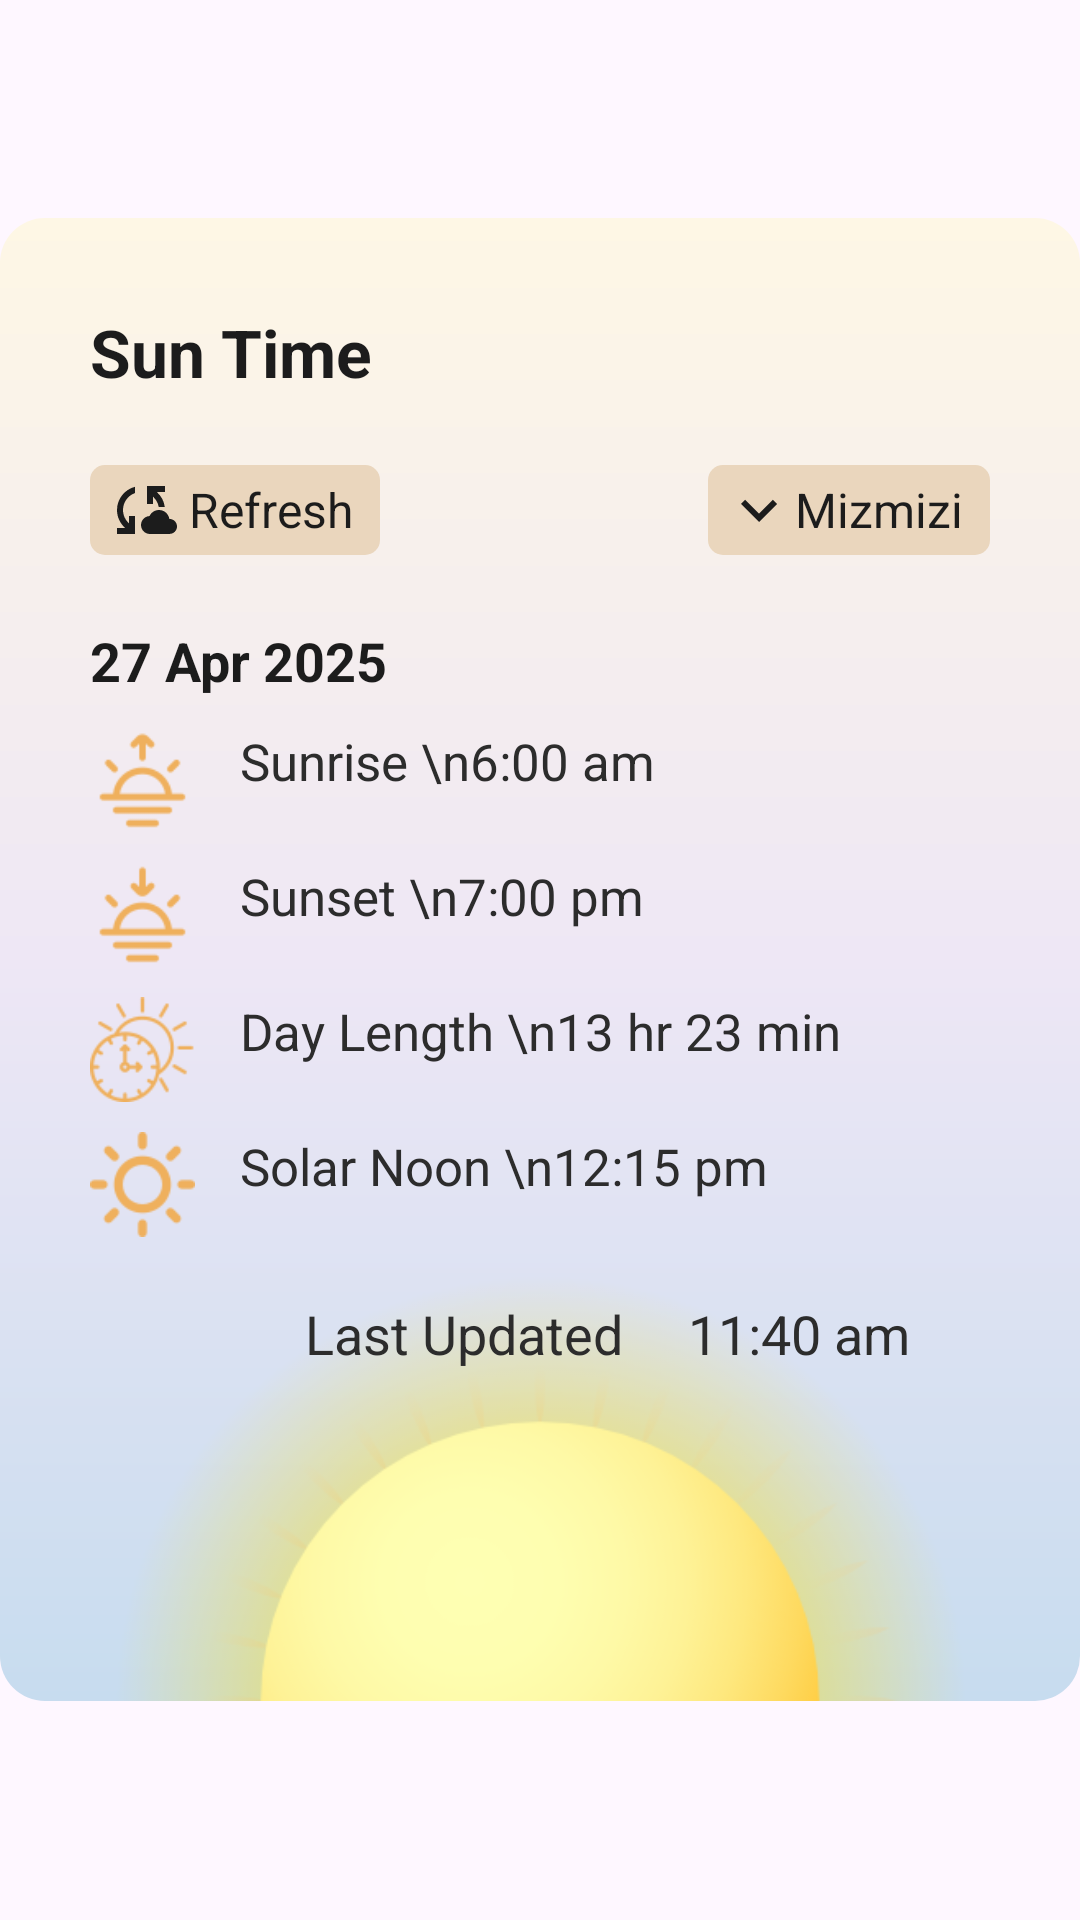

Icon bounding boxes for this 1080 x 1920 phone screenshot, format [x1,y1,x2,y2]:
cloud sync: [117,486,177,534]
keyboard arrow down: [741,500,777,522]
